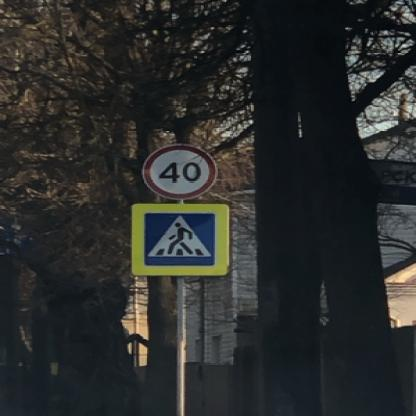Speed Limit 40: (145, 145, 215, 199)
